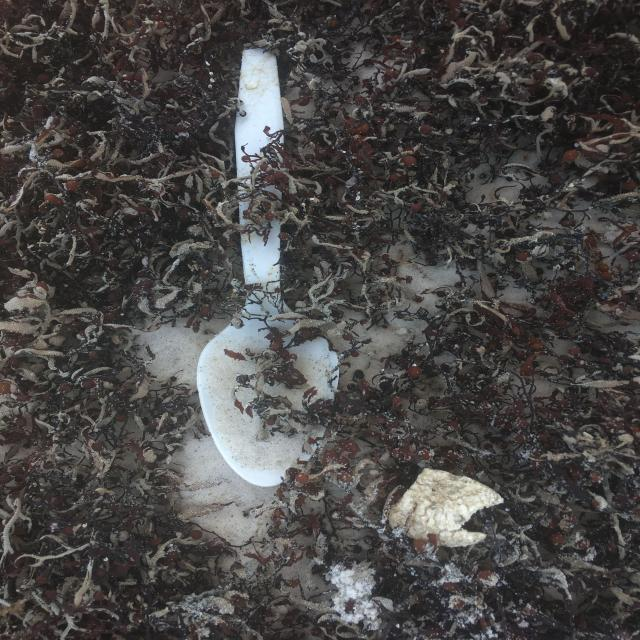litter: (198, 48, 339, 487)
